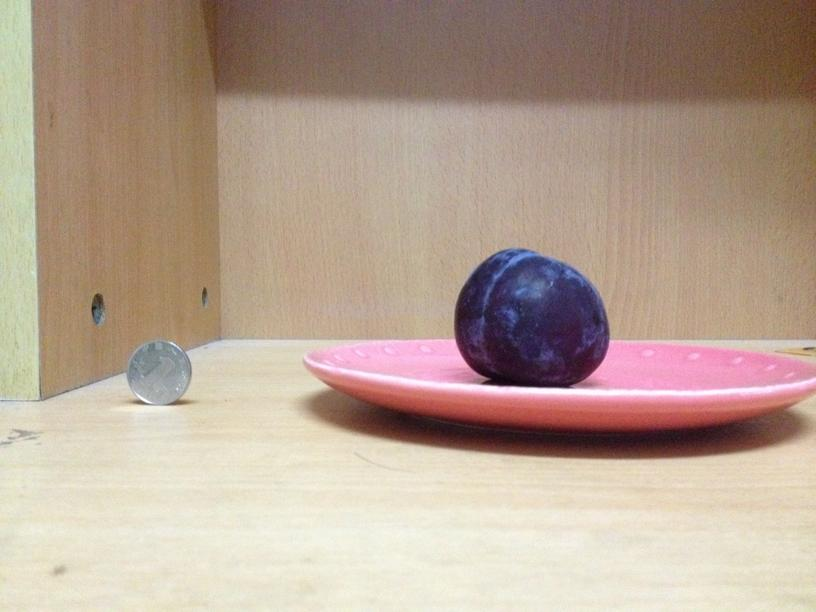coin: (120, 341, 194, 405)
plum: (448, 247, 612, 385)
